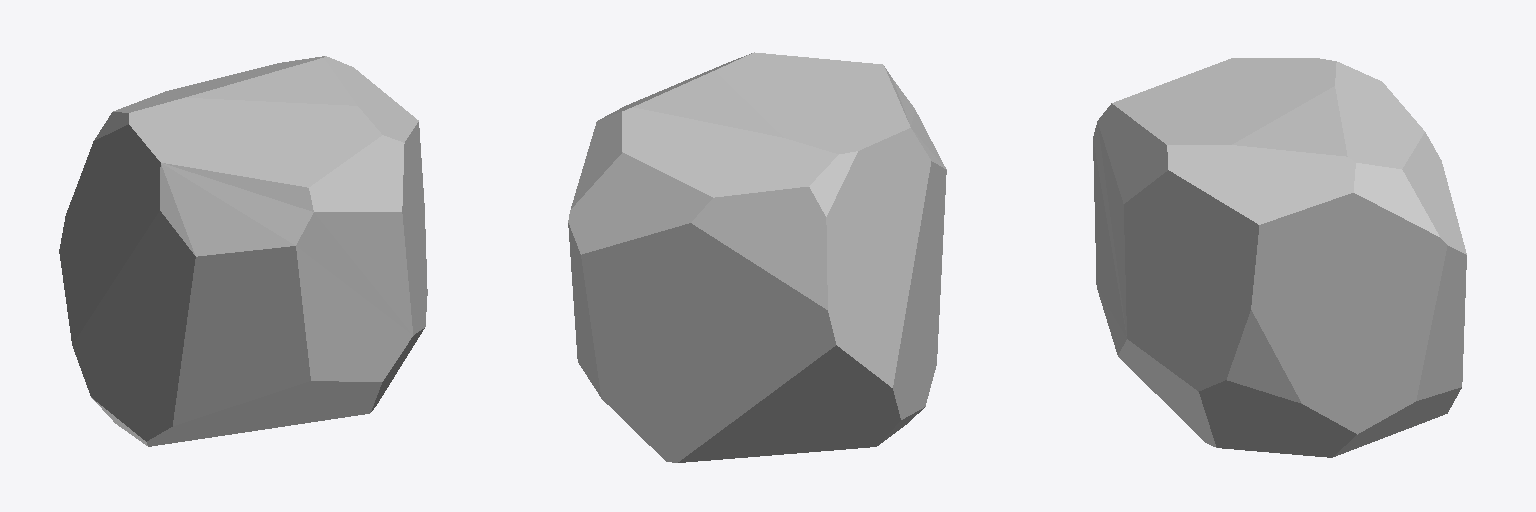
File: middleStone4.obj
3 views of the same model, side by side, from view 1: azimuth 30°, elevation 25°; view 2: azimuth 150°, elevation 25°; view 3: azimuth 270°, elevation 25° (orthographic).
Visible parts, largest first — view 1: Cube_003; view 2: Cube_003; view 3: Cube_003.
Part boxes in pixels (left/top/right/bottom): Cube_003: left=59, top=56, right=427, bottom=446; Cube_003: left=568, top=52, right=946, bottom=462; Cube_003: left=1093, top=58, right=1466, bottom=457.
Bounding box in the file's own units: 85.43 × 78.74 × 89.66.